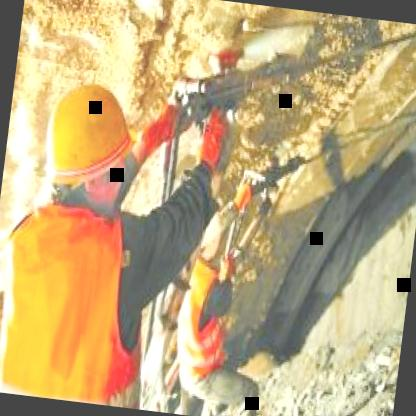helmet: (32, 64, 147, 220)
